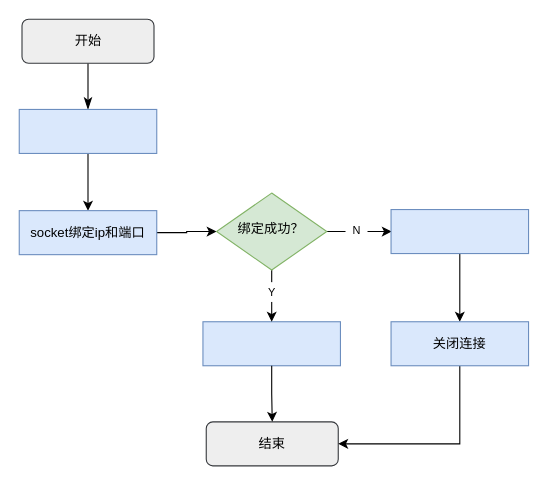
Some shapes in this 548 by 485 pixel diagram are drawn without their labels. Each missing label, with the box of its shape:
打印信息: (390, 208, 529, 254)
设置ip和端口: (18, 108, 157, 153)
设置最大连接数量: (202, 321, 340, 366)
